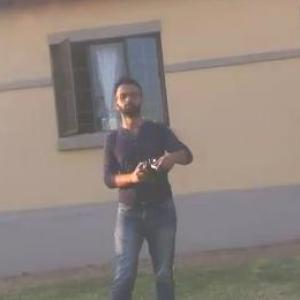follow: (93, 69, 195, 299)
